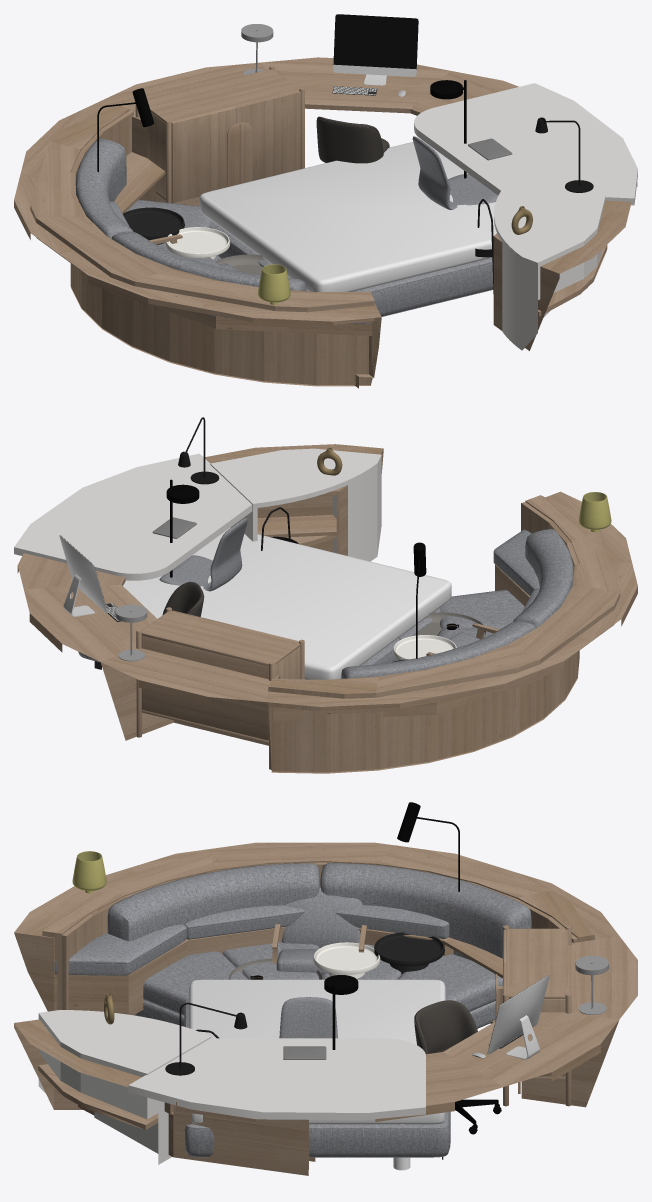
Rendered from furniture-pod-draco.glb.
3 views of the same model, one above another, from view 1: azimuth 30°, elevation 25°; view 2: azimuth 150°, elevation 25°; view 3: azimuth 270°, elevation 25° (orthographic). The views are drawn at different scales.
Visible parts, largest first — view 1: live, sleep, work; view 2: live, work, sleep; view 3: live, work, sleep.
Boxes of the visible parts, <box> form: live: <box>30,83,637,386</box>; sleep: <box>97,65,496,316</box>; work: <box>14,14,637,388</box>; live: <box>14,417,620,773</box>; work: <box>17,444,637,745</box>; sleep: <box>78,527,499,769</box>; live: <box>38,845,594,1170</box>; work: <box>14,842,637,1175</box>; sleep: <box>184,802,571,1159</box>.
Bounding box in the file's own units: 4.58 × 1.58 × 4.41.
Materials: 38 (8 with a texture image).
